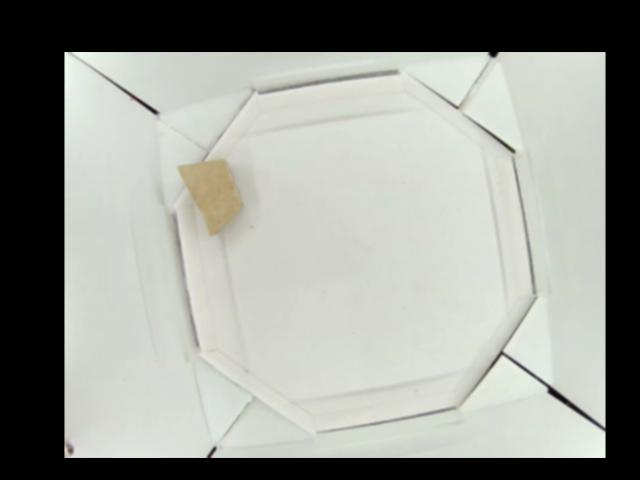China: (177, 159, 245, 238)
